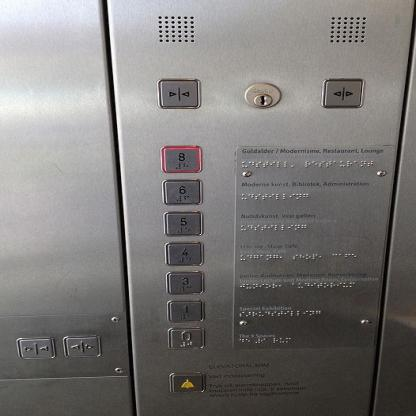0: (166, 325, 205, 349)
1: (164, 298, 205, 322)
3: (164, 269, 205, 295)
4: (163, 239, 204, 266)
5: (161, 209, 204, 236)
6: (160, 177, 204, 206)
8: (158, 143, 203, 174)
alarm: (168, 369, 206, 394)
close: (155, 76, 202, 109), (13, 335, 56, 360)
keyhole: (242, 81, 282, 109)
open: (319, 76, 365, 108), (62, 333, 101, 357)
